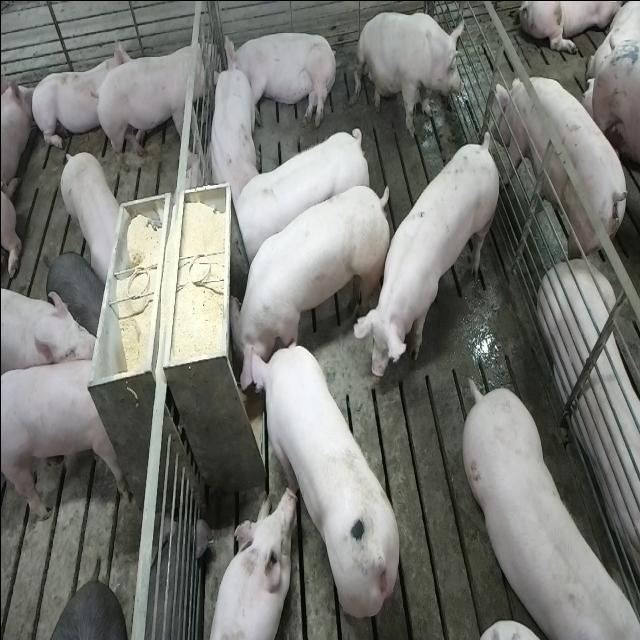Feeding: (242, 336, 401, 620), (220, 178, 388, 389)
Lateral_lying: (221, 29, 338, 129)
Sitting: (354, 8, 464, 138)
Standing: (464, 382, 640, 640), (359, 130, 503, 387), (498, 72, 632, 268), (1, 355, 133, 519), (230, 123, 368, 264), (92, 27, 215, 172), (0, 284, 97, 378), (58, 147, 124, 282), (44, 248, 105, 336)
Sternal_lying: (539, 260, 640, 600), (207, 486, 294, 640), (28, 35, 125, 156), (205, 50, 259, 199)
